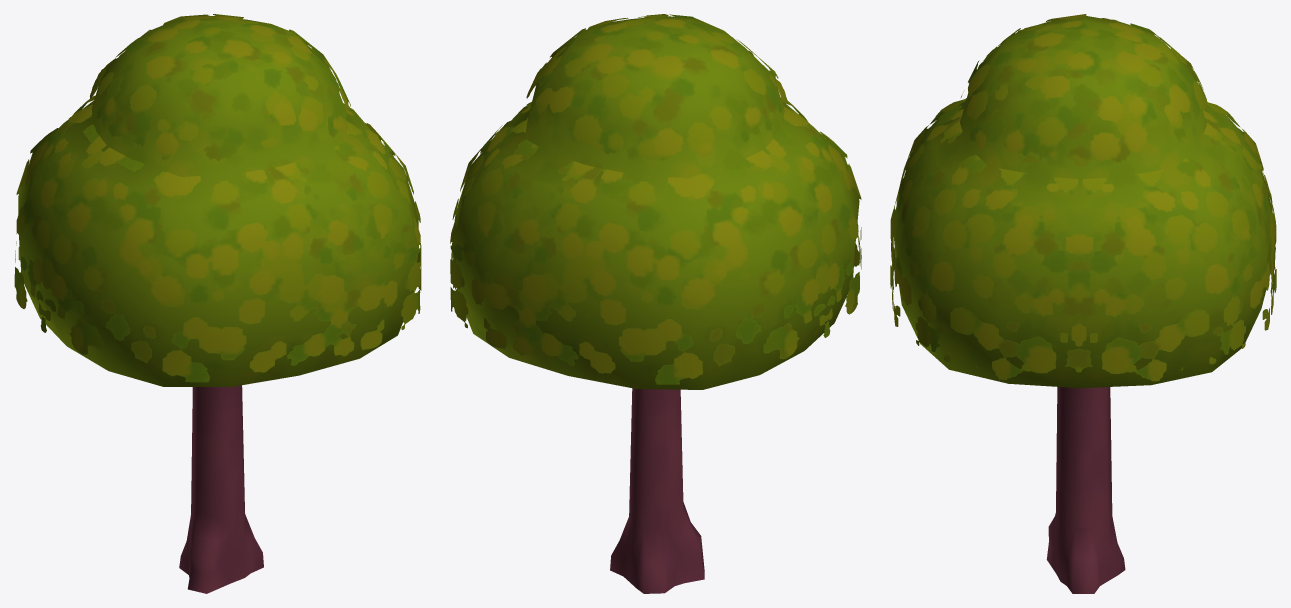
Rendered from Tree_1.fbx.
3 renders of one model, left to right at view 1: azimuth 30°, elevation 25°; view 2: azimuth 150°, elevation 25°; view 3: azimuth 270°, elevation 25°, orthographic.
Parts seen in each view (by area): view 1: Tree_1_LOD0; view 2: Tree_1_LOD0; view 3: Tree_1_LOD0.
Boxes of the visible parts, x1=… form: Tree_1_LOD0: x1=14, y1=14, x2=421, y2=593; Tree_1_LOD0: x1=450, y1=14, x2=861, y2=593; Tree_1_LOD0: x1=890, y1=14, x2=1276, y2=593.
Size of what is drawn, in the model's own units: 181 by 272 by 176.
